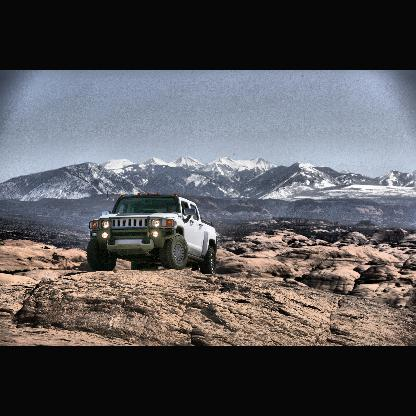HUMMER H2 SUT Crew Cab 2009: (88, 193, 219, 272)
